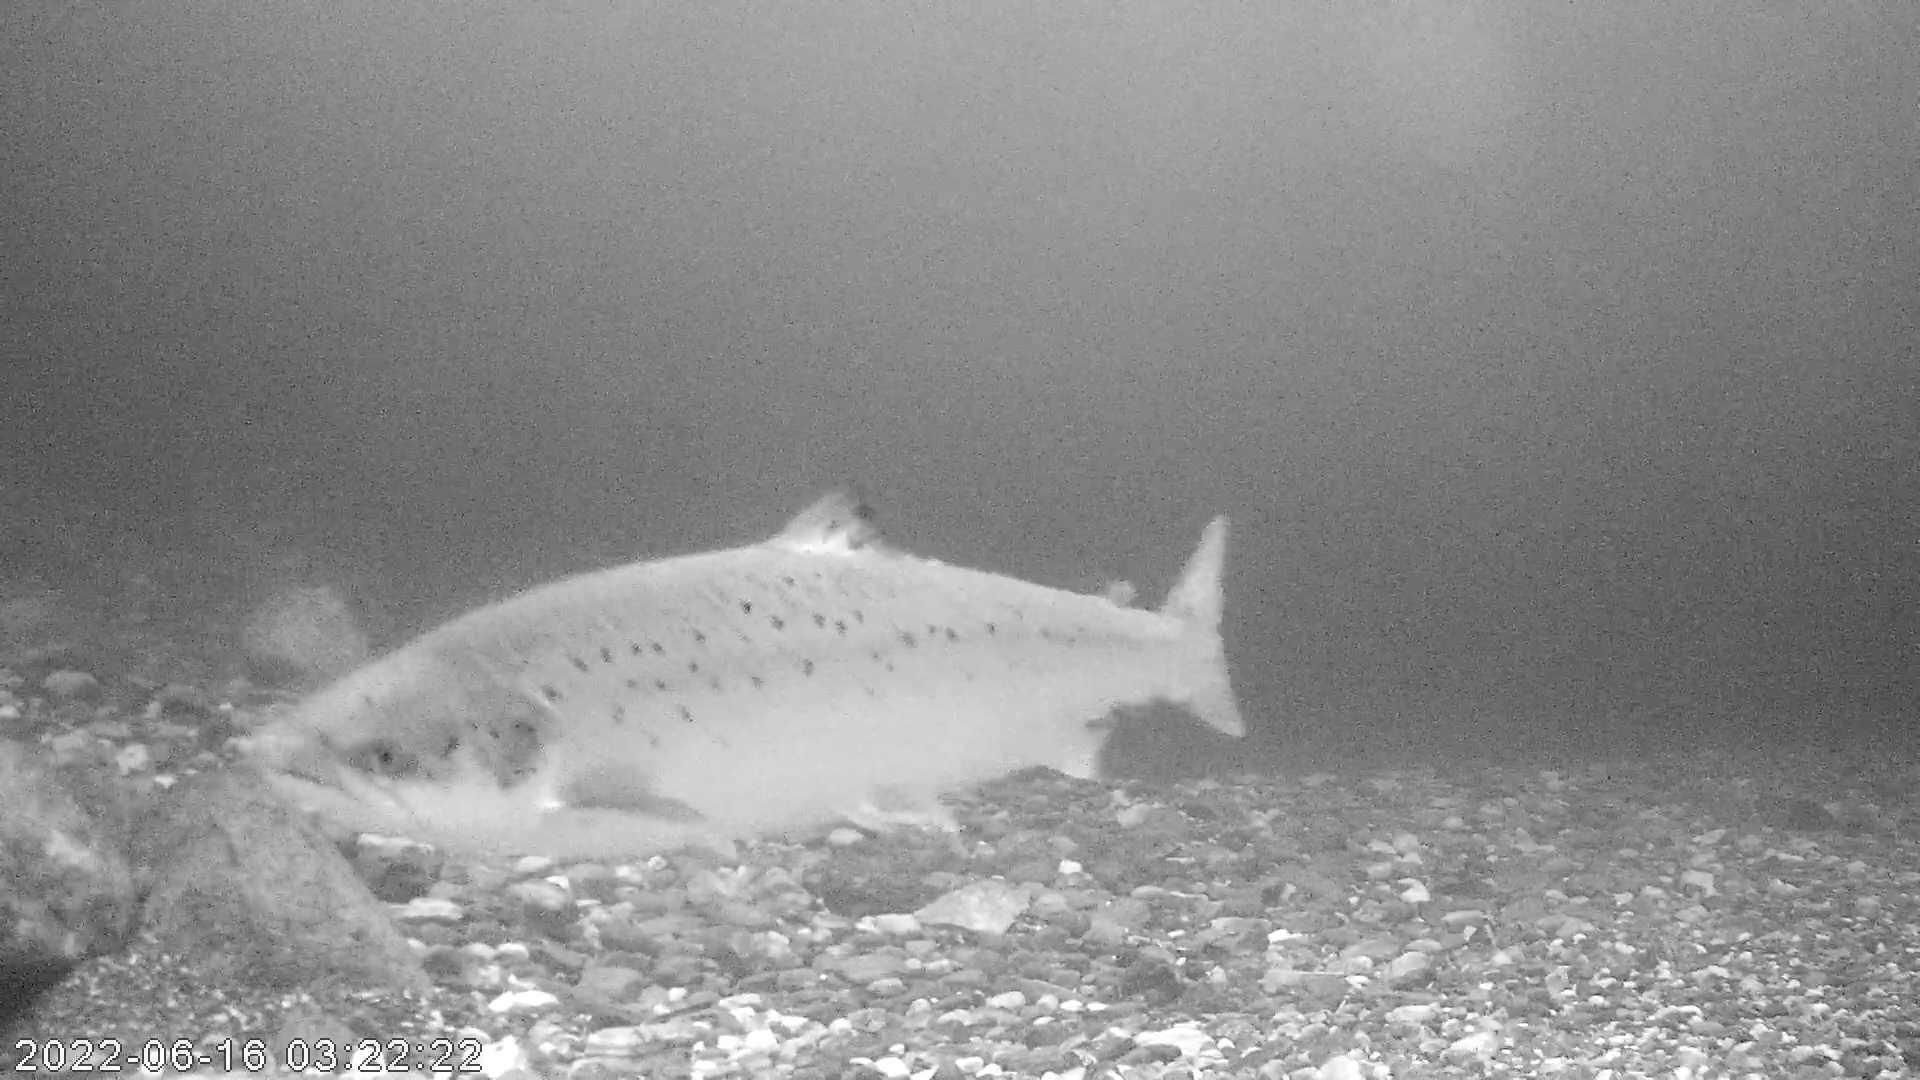salmon: (249, 477, 1251, 862)
